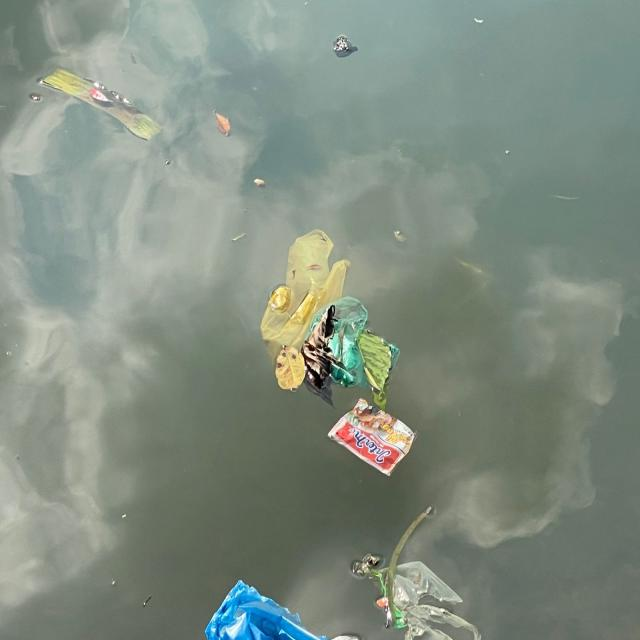Bungkus Makanan: (327, 398, 417, 478)
Kantong Plastik: (260, 225, 351, 365), (371, 556, 486, 640), (308, 295, 402, 393), (203, 576, 330, 640)
